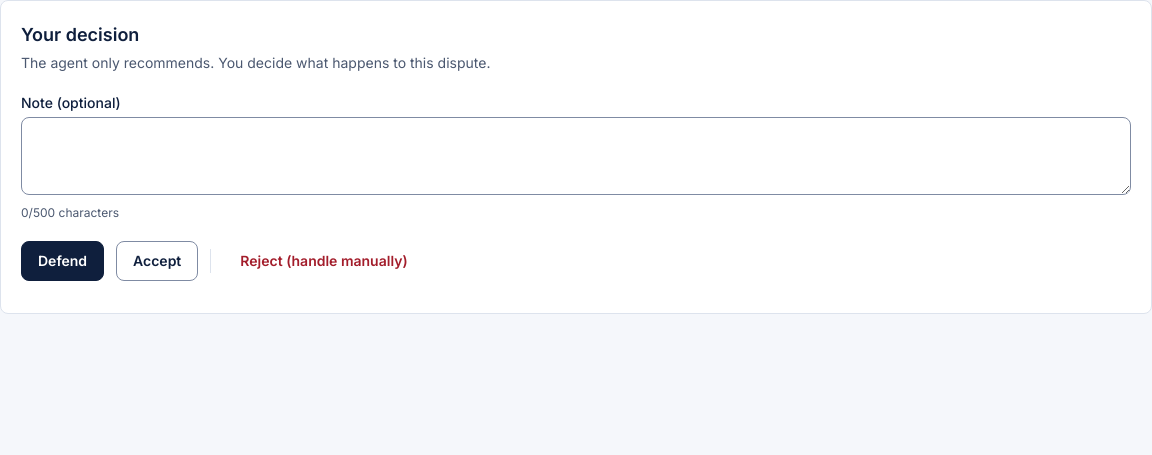
Test: confirming Reject and Accept › Cancel closes the panel, sends nothing, and keeps the note
The image size is (1152, 455).
Type "keep" into the text box labelled "Note (optional)" at (576, 156), box [21,117,1131,195]
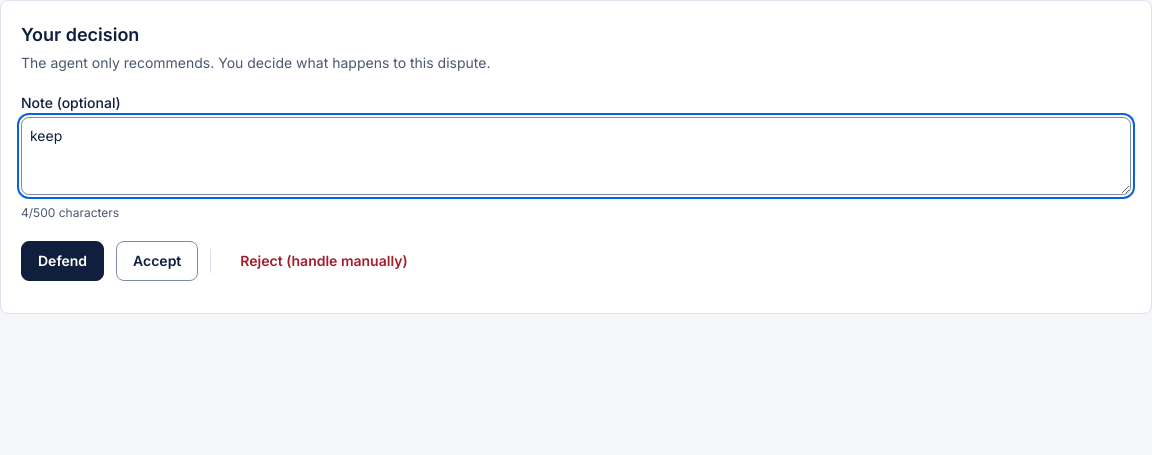
Click the button "Reject (handle manually)" at (324, 261), box [223,241,425,281]
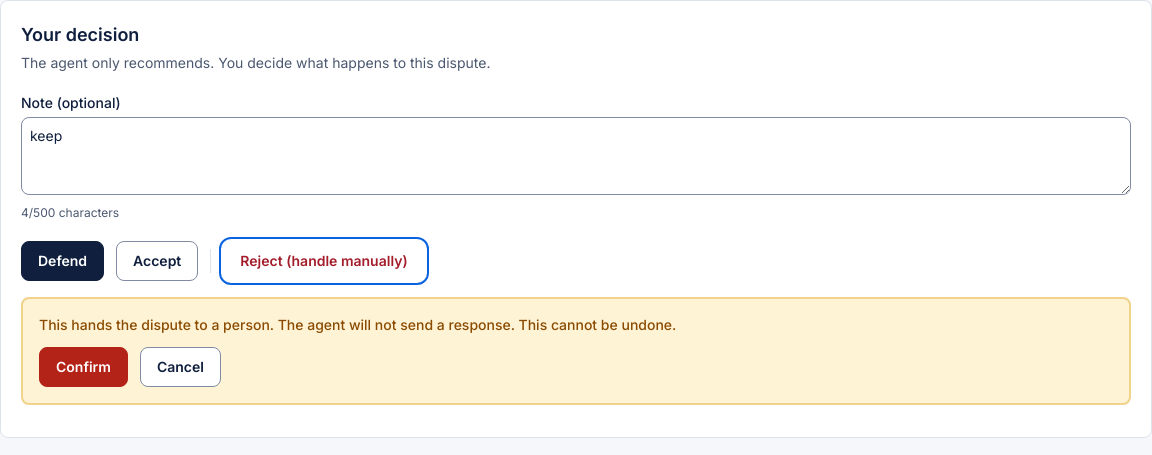
Click the button "Cancel" at (180, 367), box [140,347,221,387]
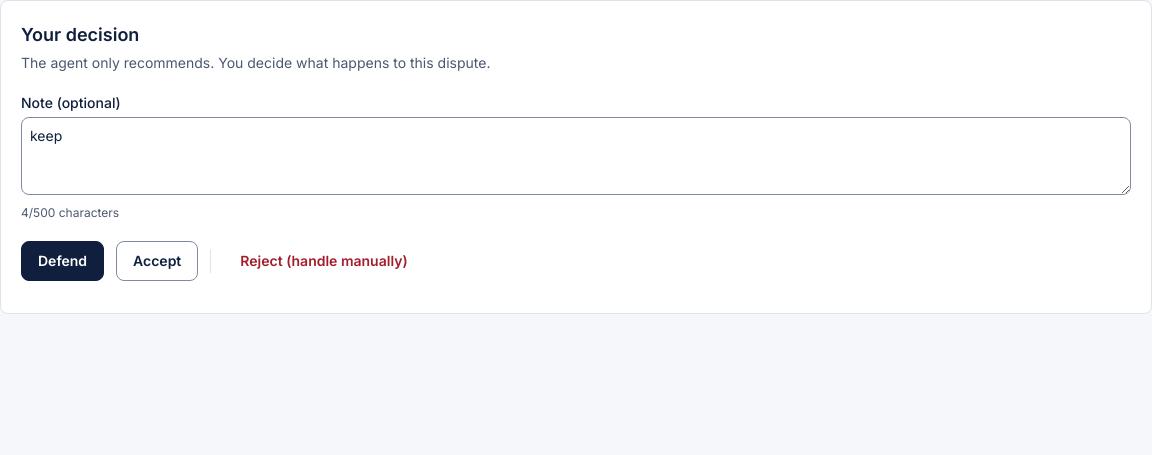
Now the text "This hands the dispute to a person. The agent will not send a response. This cannot be undone." is gone
